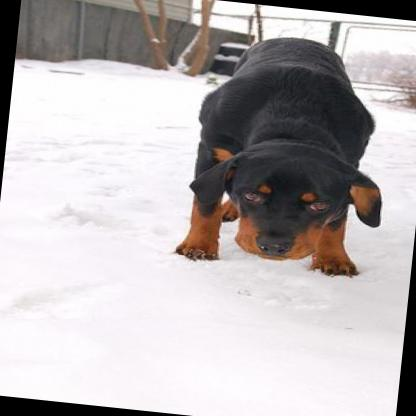Rottweiler: (168, 26, 400, 281)
